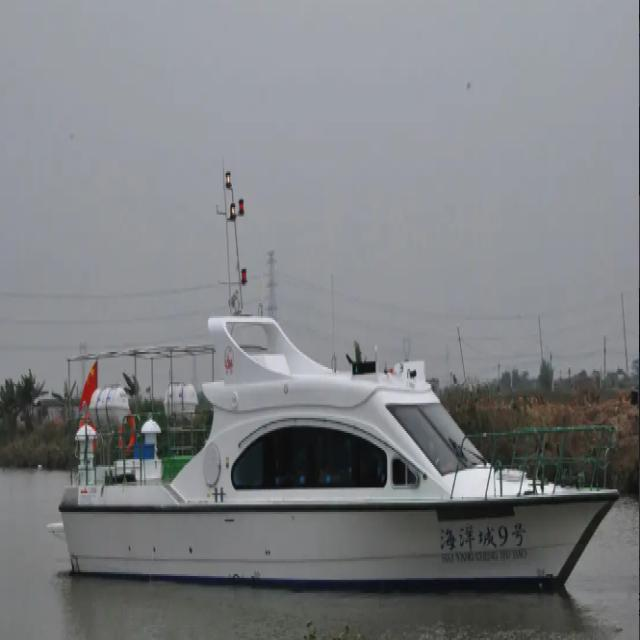houseboat: (49, 252, 626, 610)
